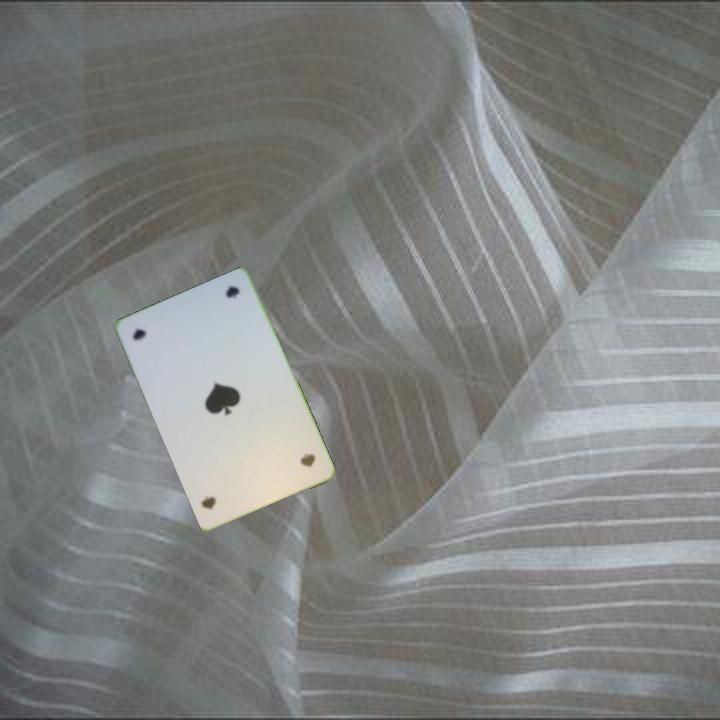s_a.png: (125, 302, 208, 380), (242, 418, 325, 496)
